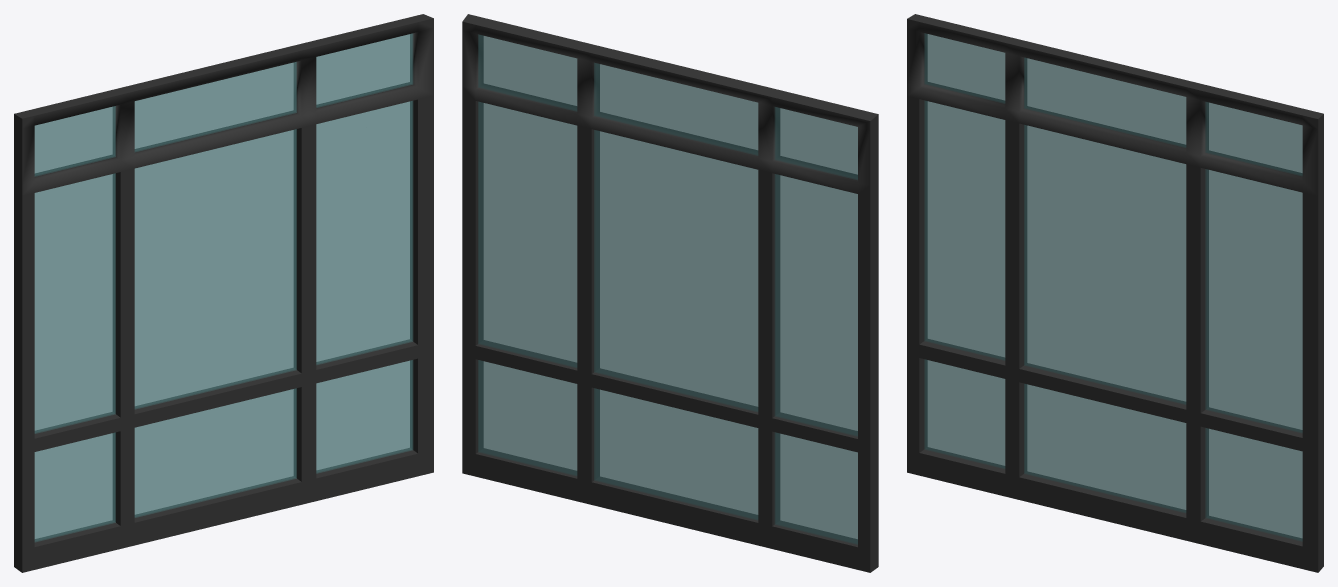
The model's file is Muur glass.fbx.
3 views of the same model, side by side, from view 1: azimuth 30°, elevation 25°; view 2: azimuth 150°, elevation 25°; view 3: azimuth 330°, elevation 25° (orthographic).
Visible parts, largest first — view 1: polySurface21; view 2: polySurface21; view 3: polySurface21.
Part boxes in pixels (left/top/right/bottom): polySurface21: left=14, top=14, right=433, bottom=572; polySurface21: left=462, top=14, right=878, bottom=572; polySurface21: left=907, top=14, right=1323, bottom=572.
Bounding box in the file's own units: 21.44 × 22.6 × 0.7357.
